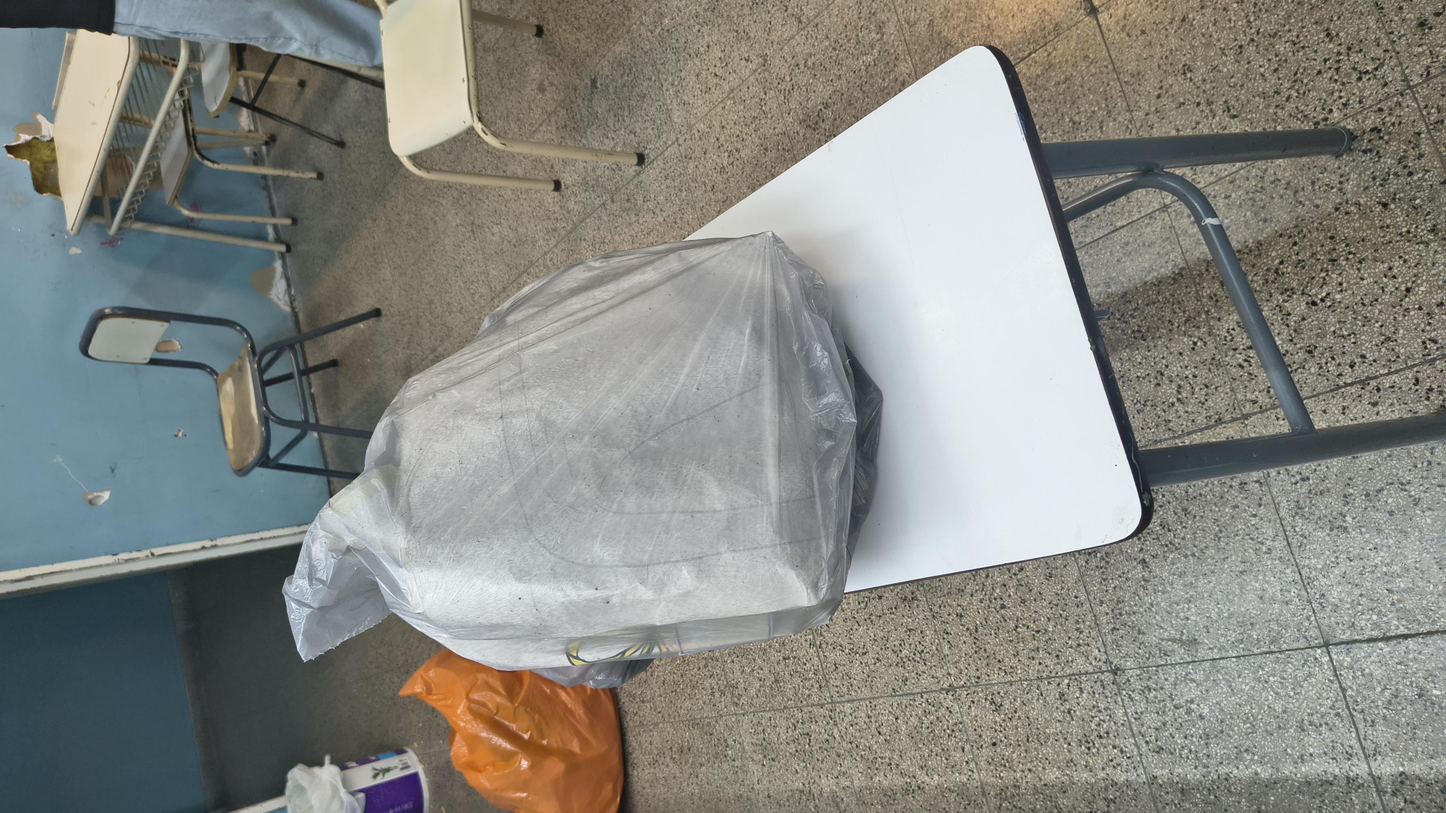Garbage: (182, 143, 1111, 500)
